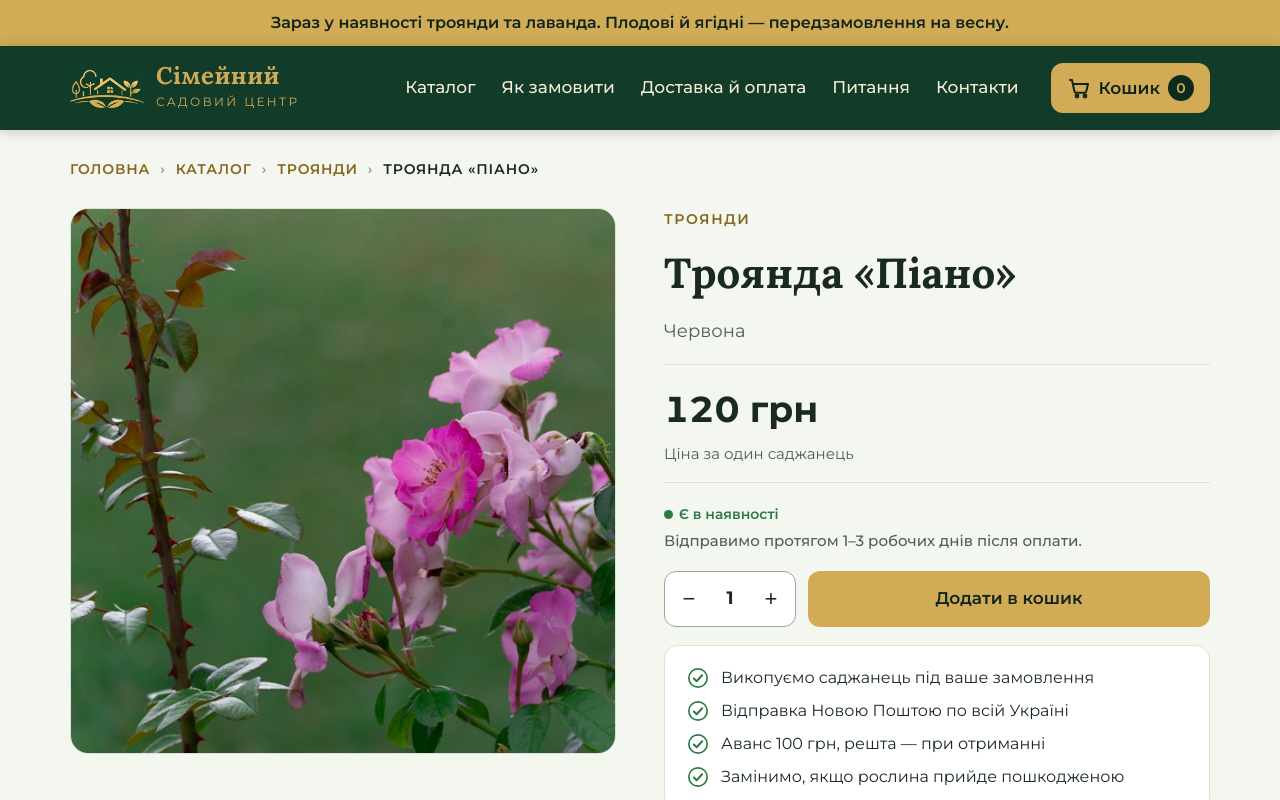
сторінка рослини › показує опис і додає вибрану кількість у кошик
Expected: the heading "Троянда «Піано»" is shown, [664, 246, 1016, 300]
Click the button named "Більше".
click(771, 599)  # box [747, 572, 795, 626]
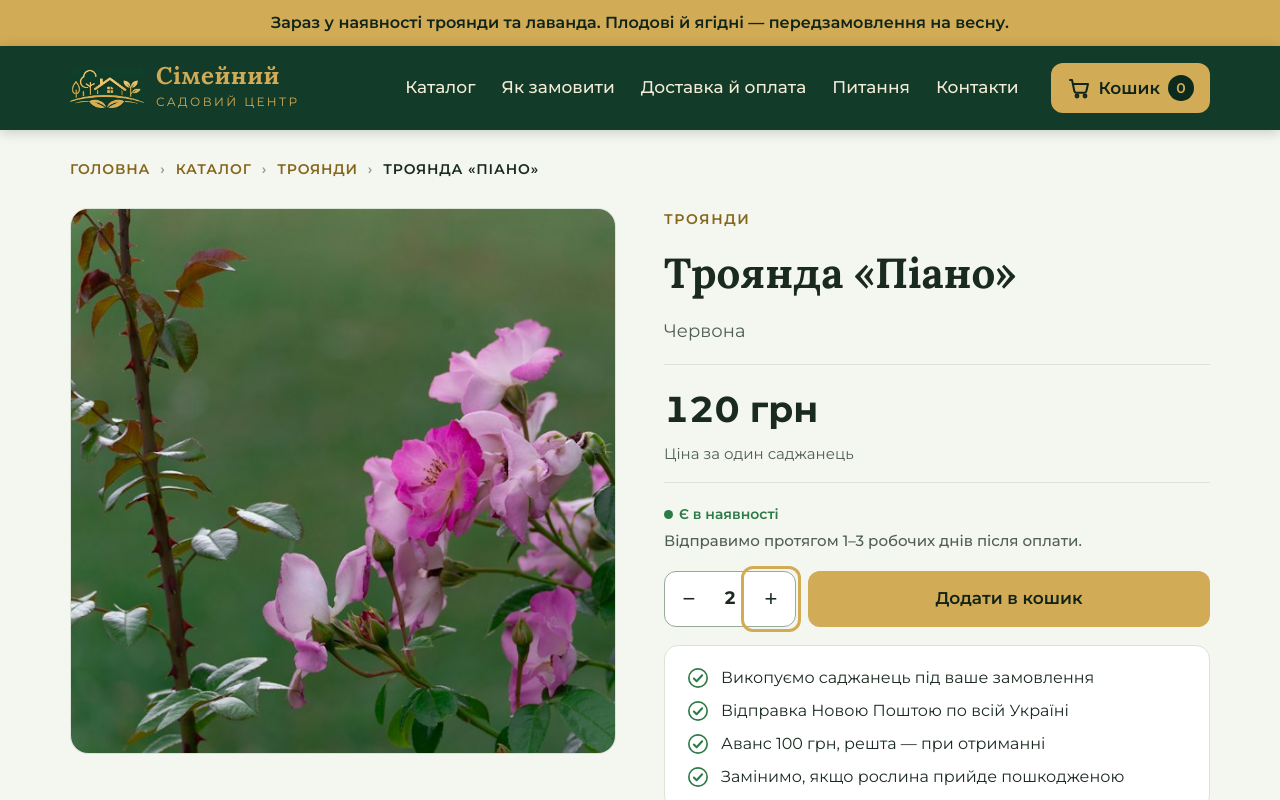
Click the button named "Більше".
click(771, 599)  # box [747, 572, 795, 626]
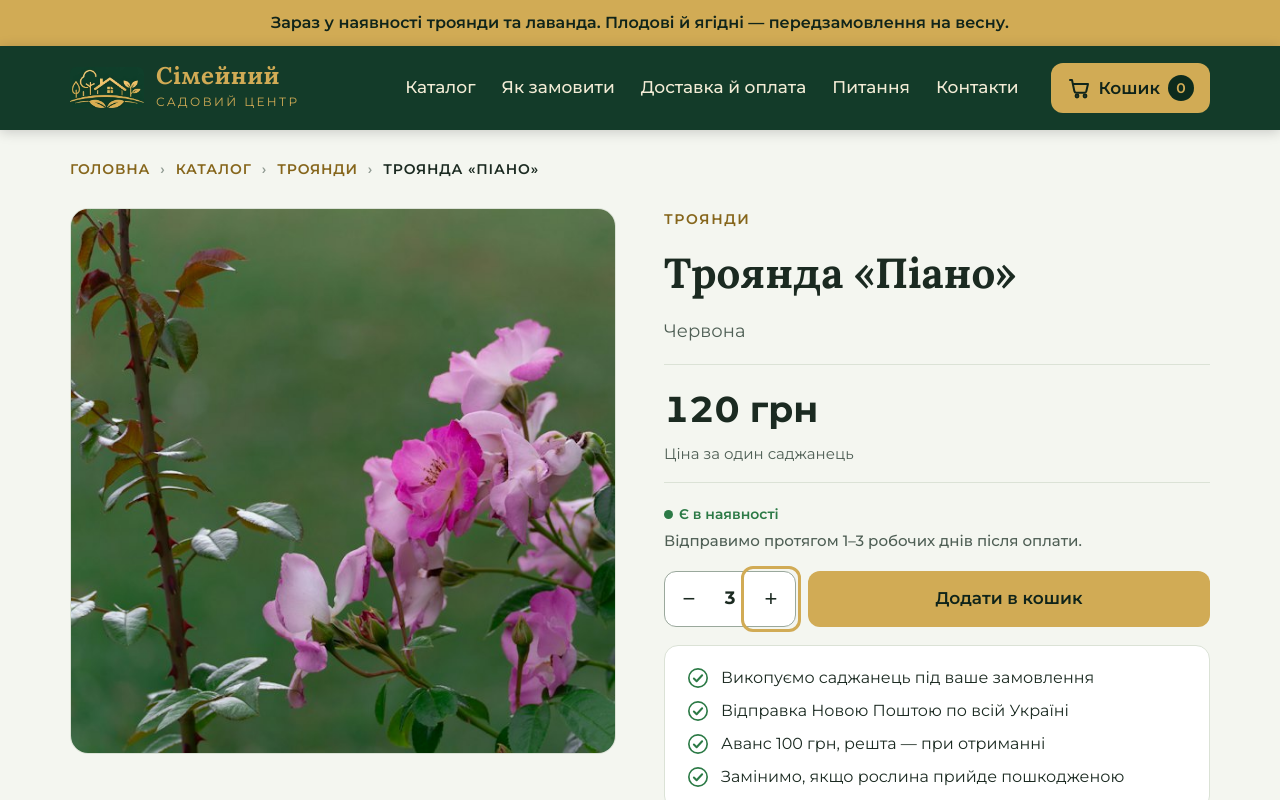
Click the button "Додати в кошик".
click(1009, 599)  # box [808, 571, 1210, 627]
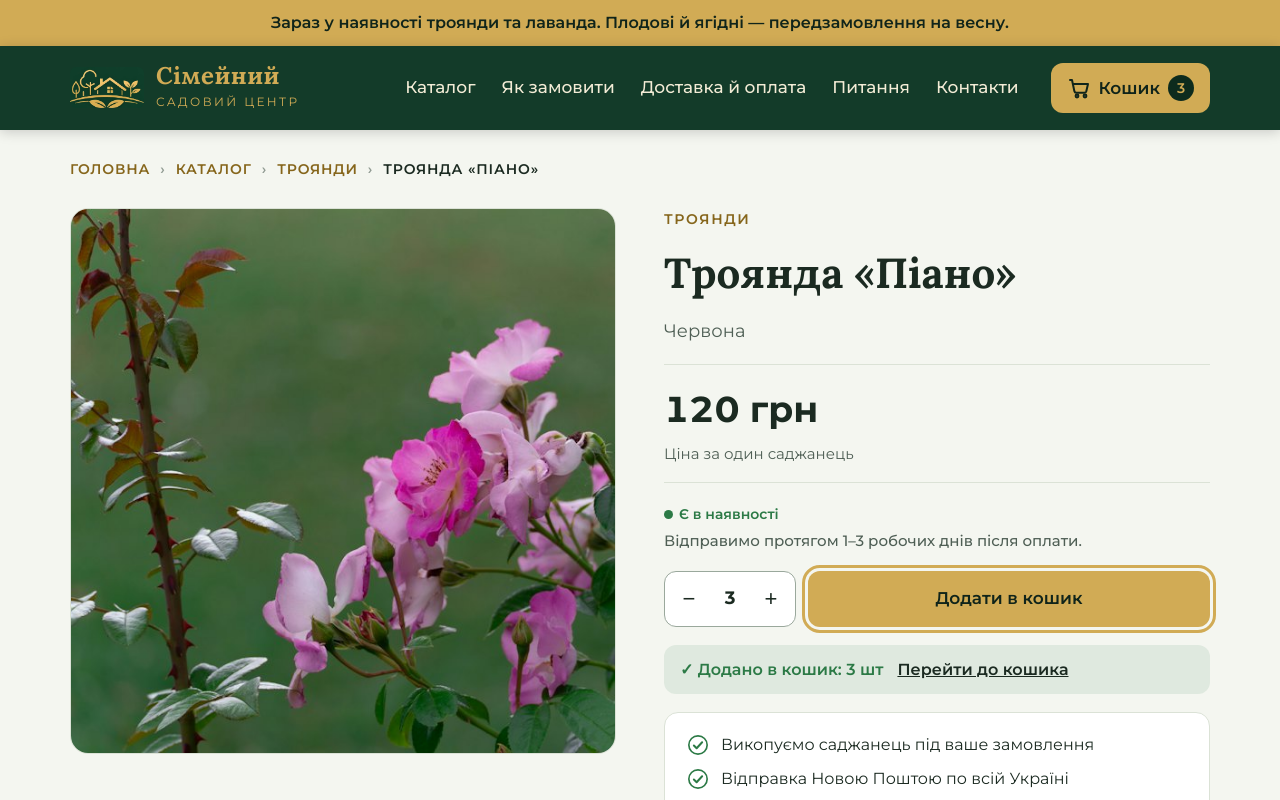
Expected: the text "✓ Додано в кошик: 3 шт" is shown, [680, 657, 883, 682]
